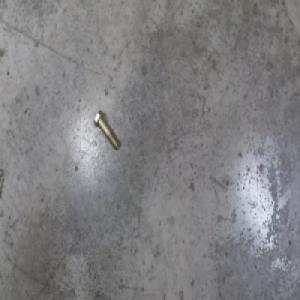Bolt: (93, 110, 119, 151)
